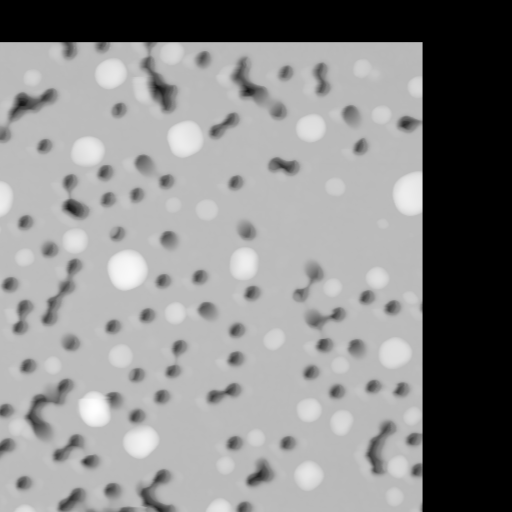Hole: (39, 260, 89, 329), (0, 89, 61, 142), (196, 374, 253, 411), (297, 300, 354, 334), (222, 55, 260, 105), (138, 464, 177, 511), (161, 333, 194, 383), (303, 53, 337, 101), (141, 73, 180, 114), (290, 258, 322, 306), (249, 84, 288, 118), (57, 175, 87, 218), (309, 335, 370, 356), (244, 452, 279, 488), (8, 295, 37, 336), (208, 110, 243, 143), (363, 426, 382, 477), (50, 435, 82, 464), (336, 101, 364, 132), (47, 376, 73, 409), (55, 483, 85, 511), (267, 152, 301, 176), (188, 46, 215, 72), (129, 150, 157, 175), (394, 112, 422, 137), (156, 228, 182, 252), (131, 304, 158, 327), (105, 220, 130, 244), (275, 429, 302, 450), (78, 449, 101, 473), (54, 42, 82, 61), (235, 217, 258, 240), (27, 388, 45, 417), (140, 44, 160, 70), (223, 171, 248, 191), (152, 267, 171, 293), (240, 282, 263, 303), (326, 381, 350, 401), (349, 139, 373, 159), (15, 470, 36, 492), (14, 213, 36, 234), (150, 384, 171, 406), (110, 99, 129, 123), (219, 433, 243, 452), (388, 380, 412, 399), (227, 319, 248, 340), (36, 133, 56, 155), (127, 183, 149, 203), (278, 59, 298, 80), (0, 274, 21, 294), (197, 296, 217, 317), (363, 377, 384, 397), (225, 348, 248, 366), (104, 314, 124, 334), (105, 478, 125, 498), (302, 361, 321, 381), (34, 421, 57, 437), (190, 265, 209, 284), (404, 431, 422, 451), (61, 335, 82, 352), (356, 291, 378, 307), (19, 355, 38, 373), (155, 171, 173, 190), (101, 189, 118, 209), (235, 501, 266, 511), (379, 417, 396, 435), (383, 297, 403, 312), (0, 400, 15, 419), (132, 401, 146, 421), (84, 505, 130, 511), (42, 241, 57, 259), (412, 458, 422, 485), (97, 165, 116, 179), (129, 366, 144, 383), (90, 42, 114, 52), (0, 441, 14, 458), (114, 391, 123, 404)
Particle: (104, 248, 152, 293), (161, 120, 204, 160), (374, 333, 417, 373), (65, 133, 111, 169), (117, 424, 161, 461), (390, 169, 422, 219), (224, 244, 263, 284), (90, 55, 129, 90), (292, 456, 326, 493), (290, 112, 326, 146), (58, 223, 90, 256), (106, 340, 136, 371), (329, 404, 356, 437), (292, 397, 322, 426), (0, 175, 18, 218), (363, 264, 393, 289), (322, 170, 347, 197), (192, 198, 219, 223), (387, 452, 411, 480), (259, 328, 284, 354), (11, 244, 36, 269), (162, 190, 187, 215), (162, 42, 187, 67), (201, 494, 235, 511), (322, 275, 346, 299), (163, 301, 187, 324), (21, 66, 45, 89), (245, 424, 267, 449), (367, 104, 391, 126), (8, 416, 33, 437), (328, 354, 350, 377), (402, 404, 422, 429), (7, 499, 48, 511), (214, 454, 236, 476), (383, 487, 405, 507), (44, 354, 65, 373), (407, 75, 422, 101), (350, 61, 369, 80), (402, 287, 419, 304), (373, 217, 388, 229), (0, 221, 3, 241)
Smear: (75, 389, 113, 431)
